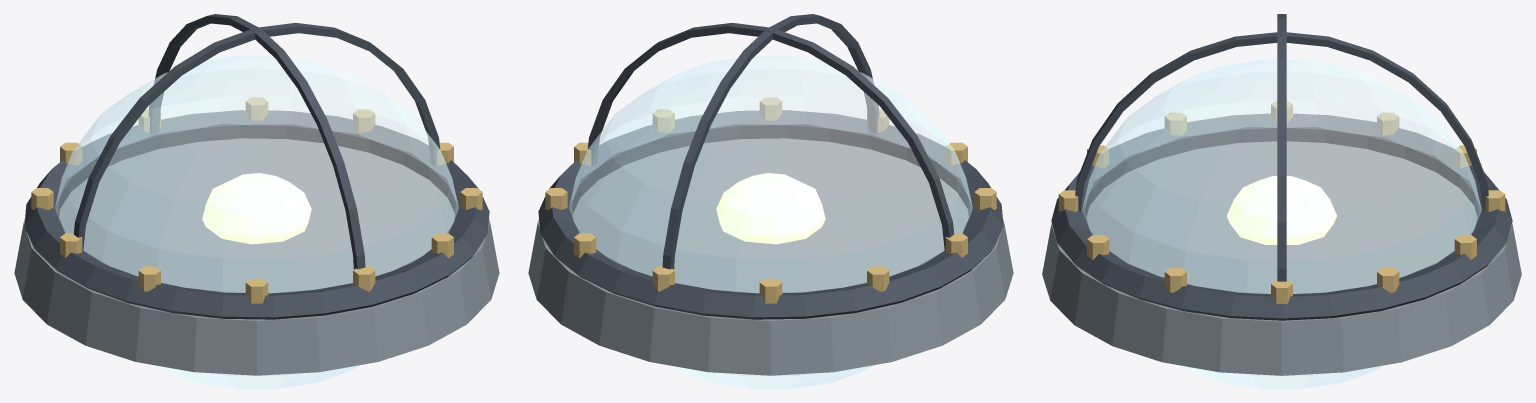
Rendered from sub_dome_viewport.glb.
3 views of the same model, side by side, from view 1: azimuth 30°, elevation 25°; view 2: azimuth 150°, elevation 25°; view 3: azimuth 270°, elevation 25° (orthographic).
Parts seen in each view (by area): view 1: sub_dome_viewport_glass, sub_dome_viewport_hull, sub_dome_viewport_dark, sub_dome_viewport_warm, sub_dome_viewport_brass; view 2: sub_dome_viewport_glass, sub_dome_viewport_hull, sub_dome_viewport_dark, sub_dome_viewport_warm, sub_dome_viewport_brass; view 3: sub_dome_viewport_glass, sub_dome_viewport_hull, sub_dome_viewport_dark, sub_dome_viewport_warm, sub_dome_viewport_brass.
Part boxes in pixels (box(x1,y1,x2,y2)): sub_dome_viewport_glass: box(55, 56, 458, 388); sub_dome_viewport_hull: box(14, 138, 499, 375); sub_dome_viewport_dark: box(24, 14, 489, 319); sub_dome_viewport_warm: box(202, 173, 311, 244); sub_dome_viewport_brass: box(31, 97, 482, 303); sub_dome_viewport_glass: box(569, 56, 972, 388); sub_dome_viewport_hull: box(528, 138, 1013, 375); sub_dome_viewport_dark: box(538, 14, 1003, 319); sub_dome_viewport_warm: box(716, 173, 825, 244); sub_dome_viewport_brass: box(545, 97, 996, 303); sub_dome_viewport_glass: box(1082, 59, 1481, 388); sub_dome_viewport_hull: box(1042, 141, 1521, 375); sub_dome_viewport_dark: box(1051, 14, 1512, 320); sub_dome_viewport_warm: box(1227, 176, 1336, 244); sub_dome_viewport_brass: box(1058, 101, 1505, 304).
Bounding box in the file's own units: 2.6 × 1.99 × 2.6.
